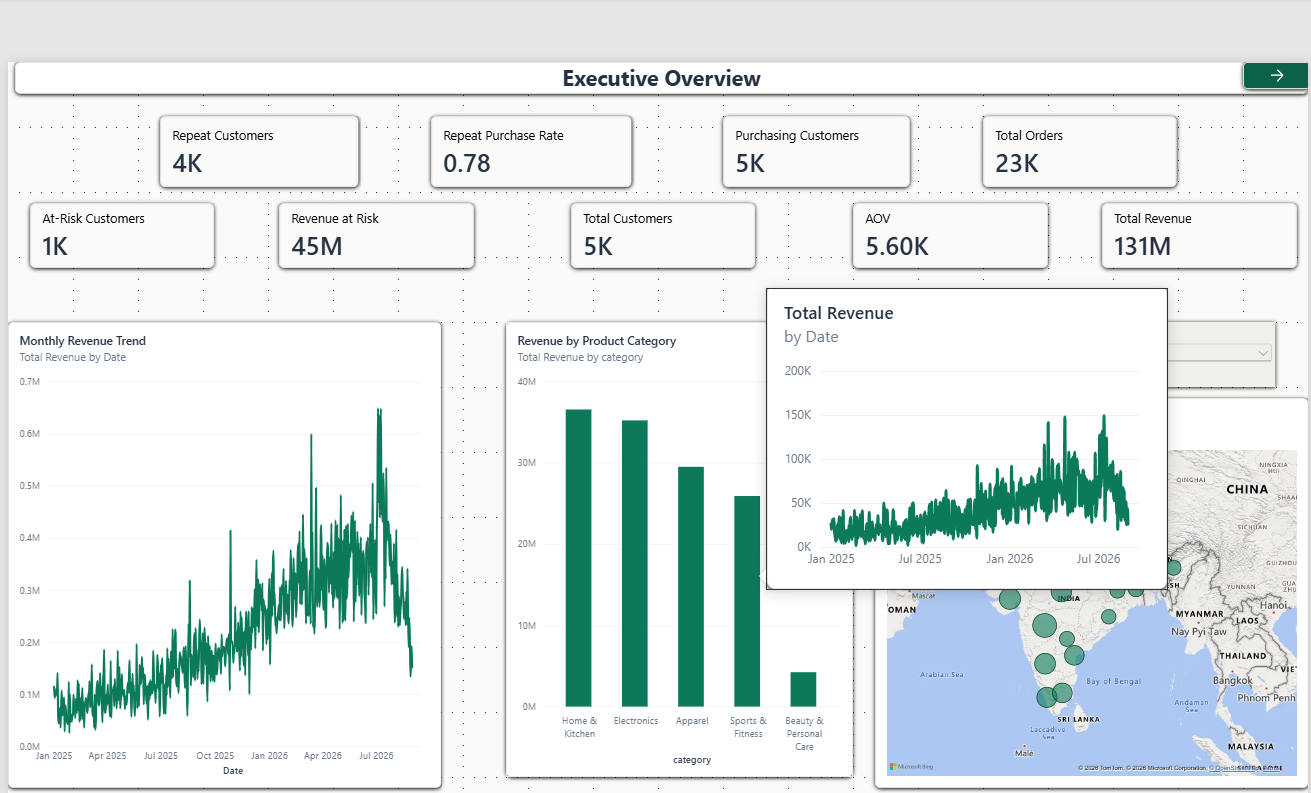

What the dashboard file says about the page in this screenshot:
{"tool":"powerbi","page":{"name":"executive overview","canvas":[1920,1080],"ordinal":0},"visuals":[{"type":"textbox","box":[10.3,0,1909.7,47.3],"z":0},{"type":"cardVisual","fields":{"Data":["Calendar.Repeat Customers"]},"box":[224,80,292.6,105.1],"z":1000},{"type":"cardVisual","fields":{"Data":["Calendar.At_Risk_customer_count"]},"box":[32,208,272,96],"z":2000},{"type":"cardVisual","fields":{"Data":["Calendar.Purchasing Customers"]},"box":[1056,80,275.8,105.1],"z":3000},{"type":"cardVisual","fields":{"Data":["Calendar.Repeat Purchase Rate"]},"box":[624,80,295.6,105.1],"z":4000},{"type":"cardVisual","fields":{"Data":["Calendar.Revenue at Risk"]},"box":[400,208,288,96],"z":5000},{"type":"cardVisual","fields":{"Data":["Calendar.Total Customers"]},"box":[832,208,272,96],"z":6000},{"type":"cardVisual","fields":{"Data":["Calendar.AOV"]},"box":[1248,208,288,96],"z":7000},{"type":"cardVisual","fields":{"Data":["_Measure.Total Orders"]},"box":[1440,80,286.5,105.1],"z":8000},{"type":"cardVisual","fields":{"Data":["_Measure.Total Revenue"]},"box":[1616,208,288,96],"z":9000},{"type":"lineChart","title":"Monthly Revenue Trend","fields":{"Category":["Calendar.Date"],"Y":["_Measure.Total Revenue"]},"box":[0,384,640,688],"z":10000},{"type":"clusteredColumnChart","title":"Revenue by Product Category","fields":{"Category":["products_clean.category"],"Y":["_Measure.Total Revenue"]},"box":[736,384,512,672],"z":11000},{"type":"map","title":"Revenue by State","fields":{"Category":["customer_360_final.state"],"Size":["_Measure.Total Revenue"]},"box":[1280,496,640,576],"z":12000},{"type":"slicer","fields":{"Values":["customer_360_final.acquisition_channel"]},"box":[1520,384,352,96],"z":13000},{"type":"actionButton","box":[1824,0,100,40],"z":13001}]}

Visuals, with their boxes on the page's 1920x1080 design canvas (x1, y1, x2, y2). These are canvas units, not pixel positions in the 1311x793 screenshot, which may show the page scaled, cropped or inside an application window:
textbox: (10,0,1920,47)
cardVisual - Calendar.Repeat Customers: (224,80,517,185)
cardVisual - Calendar.At_Risk_customer_count: (32,208,304,304)
cardVisual - Calendar.Purchasing Customers: (1056,80,1332,185)
cardVisual - Calendar.Repeat Purchase Rate: (624,80,920,185)
cardVisual - Calendar.Revenue at Risk: (400,208,688,304)
cardVisual - Calendar.Total Customers: (832,208,1104,304)
cardVisual - Calendar.AOV: (1248,208,1536,304)
cardVisual - _Measure.Total Orders: (1440,80,1726,185)
cardVisual - _Measure.Total Revenue: (1616,208,1904,304)
"Monthly Revenue Trend" lineChart: (0,384,640,1072)
"Revenue by Product Category" clusteredColumnChart: (736,384,1248,1056)
"Revenue by State" map: (1280,496,1920,1072)
slicer - customer_360_final.acquisition_channel: (1520,384,1872,480)
actionButton: (1824,0,1924,40)
